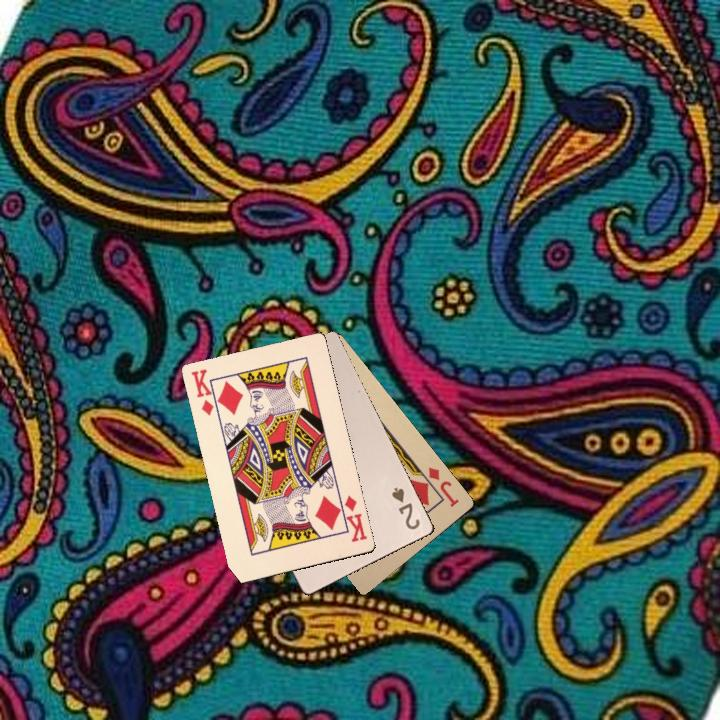2s: (387, 483, 423, 533)
Jd: (424, 463, 462, 510)
Kd: (187, 365, 222, 420), (335, 492, 370, 545)
